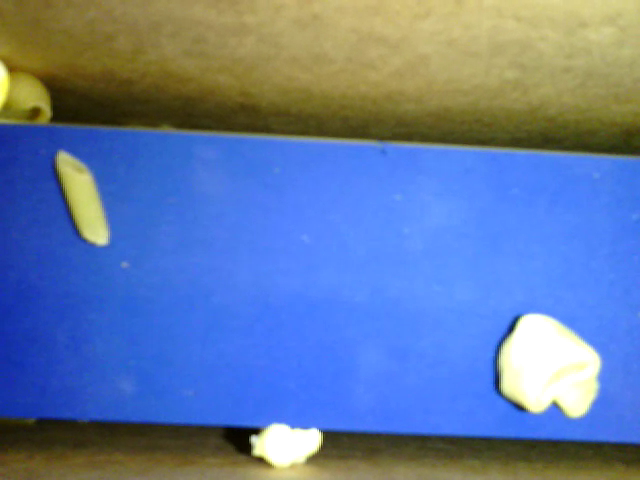penne: (53, 148, 111, 245)
shell: (3, 72, 52, 127)
